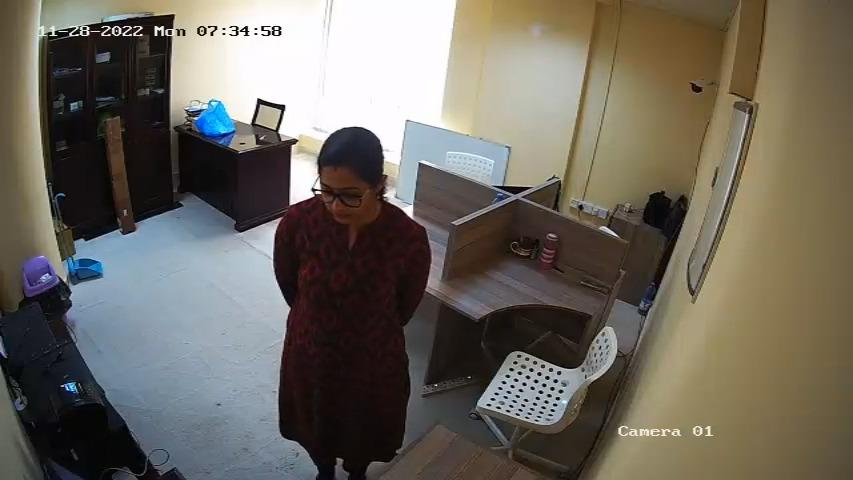no_apron: (292, 228, 401, 438)
